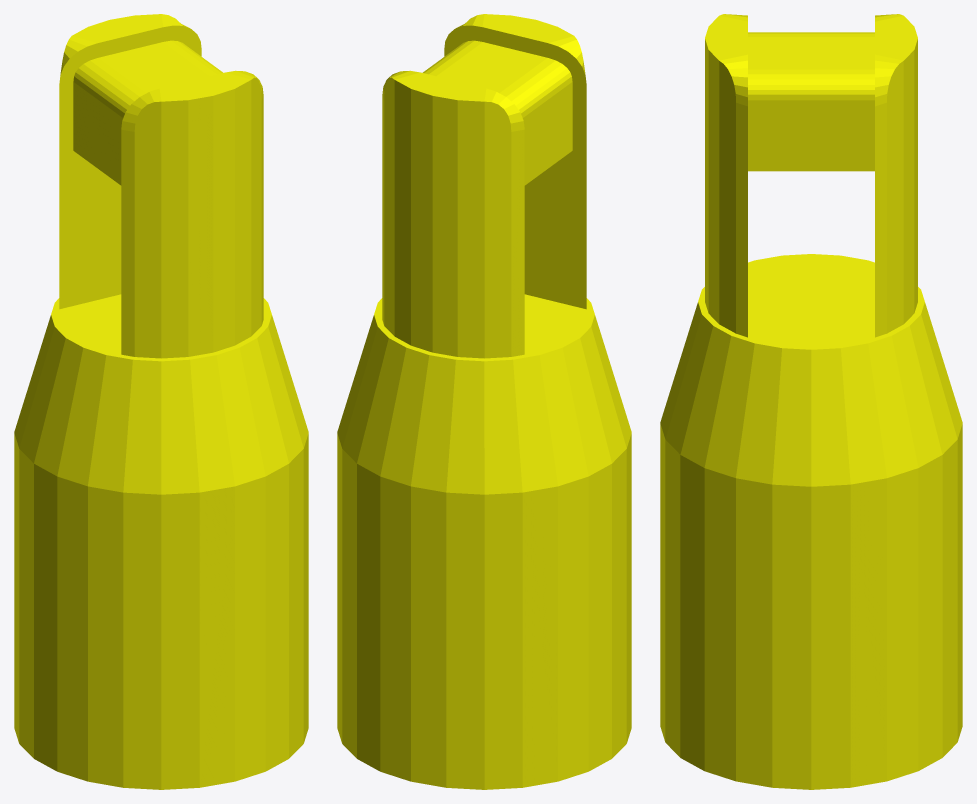
The model's file is BladeAttachment.obj.
The picture shows the model from 3 angles, left to right: view 1: azimuth 30°, elevation 25°; view 2: azimuth 150°, elevation 25°; view 3: azimuth 270°, elevation 25°; orthographic projection. The views are drawn at different scales.
Parts seen in each view (by area): view 1: Base; view 2: Base; view 3: Base.
Part boxes in pixels (box(x1,y1,x2,y2)): Base: box(14, 14, 308, 789); Base: box(337, 14, 631, 789); Base: box(660, 14, 962, 789).
Bounding box in the file's own units: 0.1366 × 0.3426 × 0.1366.
